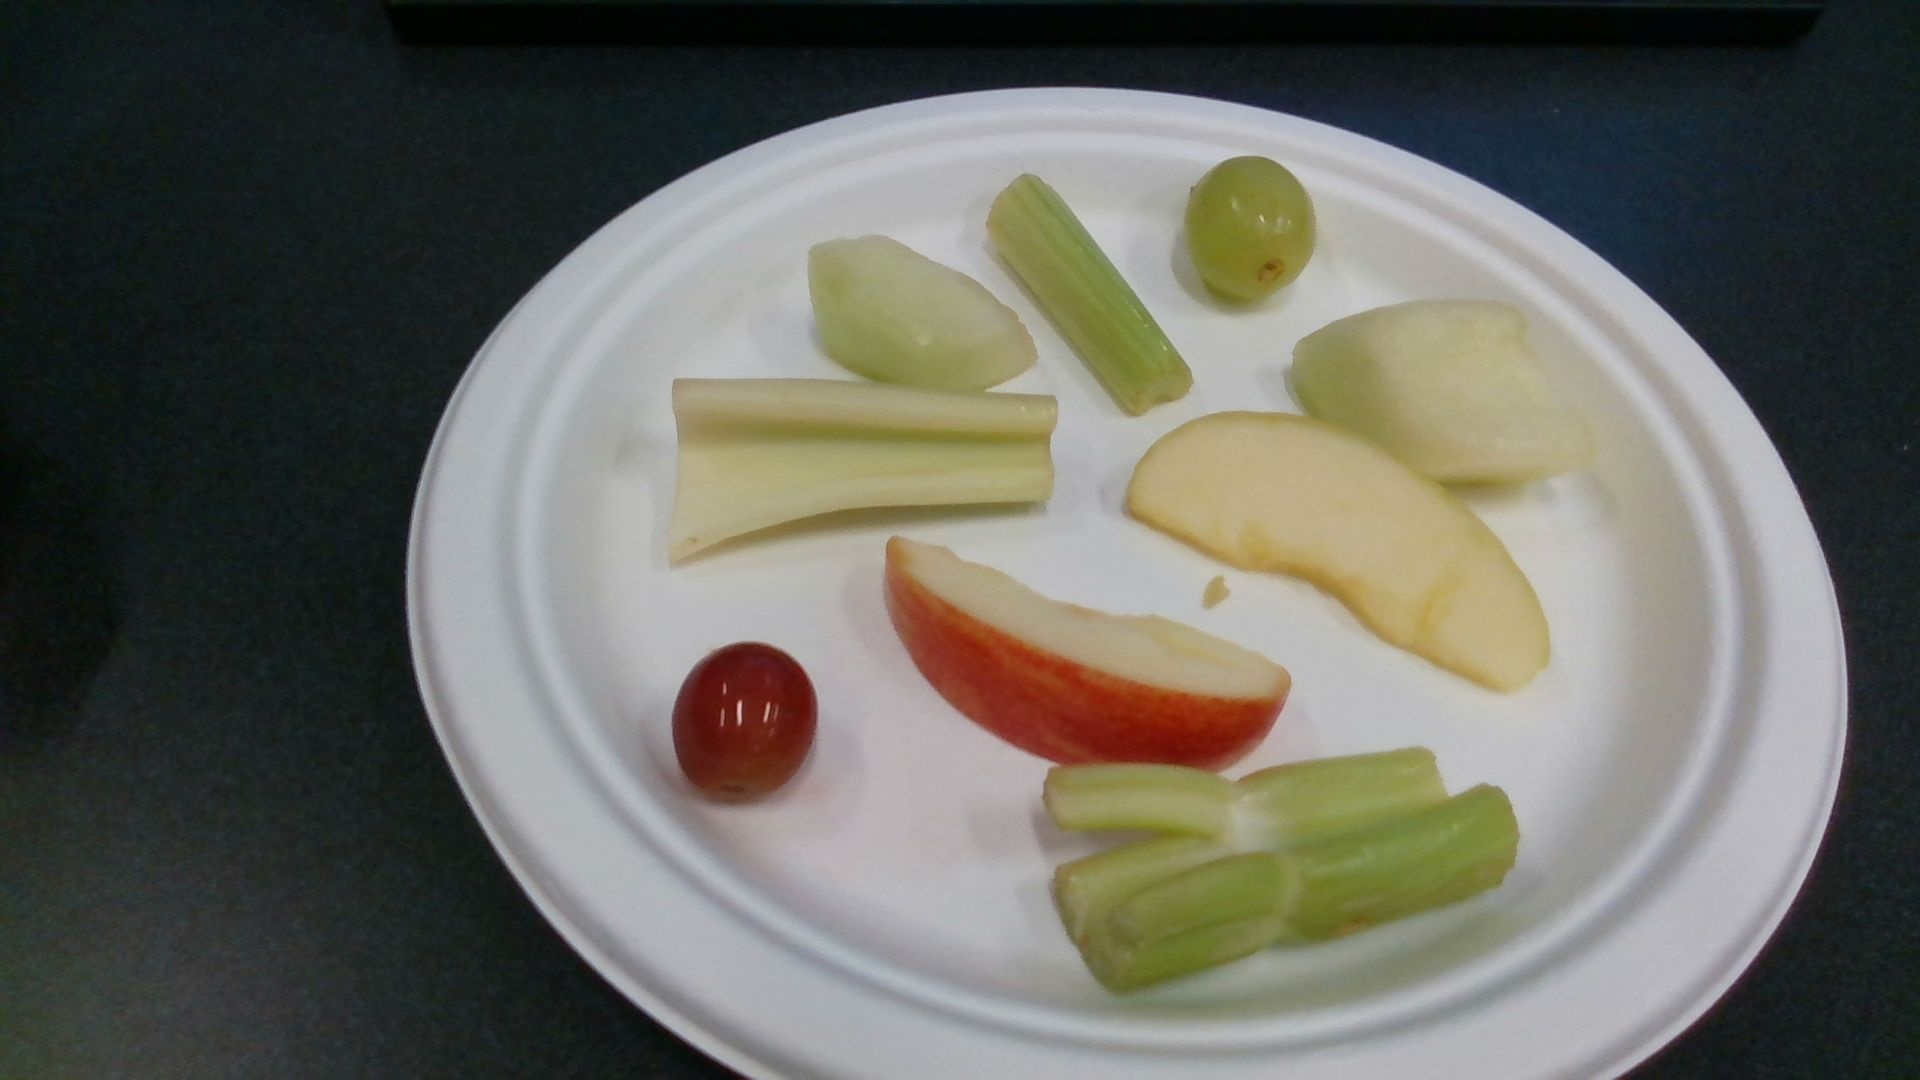apple: (1124, 413, 1549, 691), (887, 533, 1287, 771)
cantalope: (1294, 301, 1592, 481), (807, 233, 1035, 392)
celery: (1044, 750, 1516, 992), (673, 375, 1055, 564), (989, 175, 1189, 413)
grape_green: (1189, 158, 1315, 298)
grape_purple: (674, 645, 818, 795)
